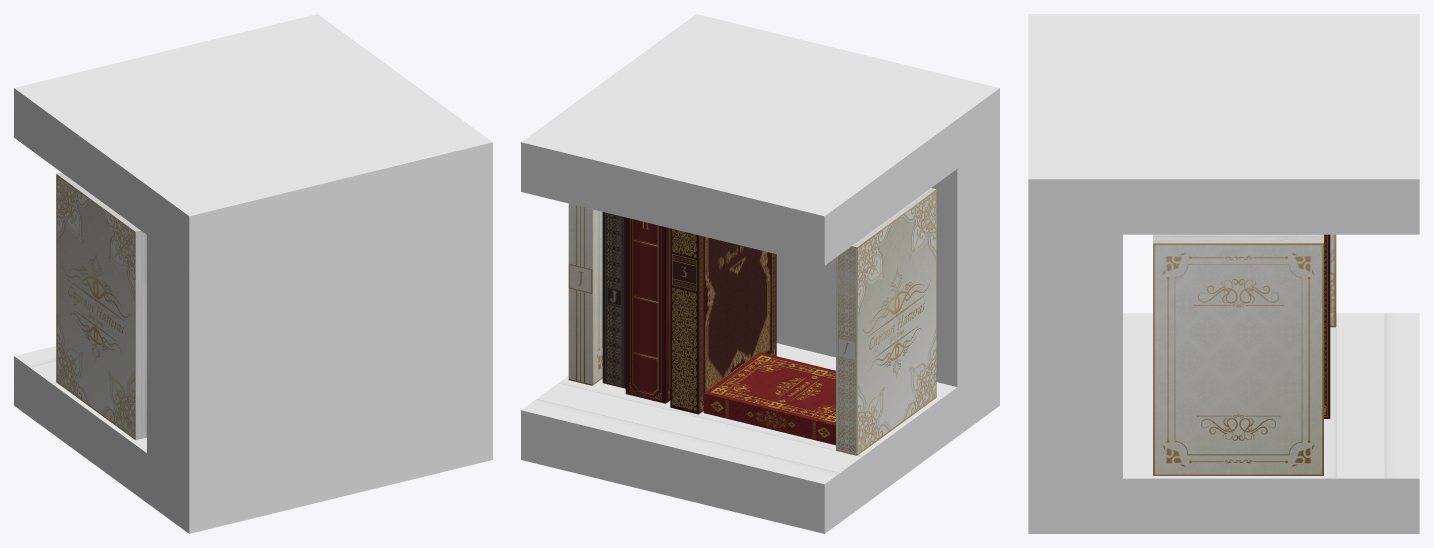
File: bookshelf1.obj
The picture shows the model from 3 angles, left to right: view 1: azimuth 30°, elevation 25°; view 2: azimuth 150°, elevation 25°; view 3: azimuth 270°, elevation 25°; orthographic projection. The views are drawn at different scales.
Visible parts, largest first — view 1: cube, cube.000, cube.001, cube.003; view 2: cube, cube.001, cube.003, cube.000, cube.007, cube.006, cube.005, cube.002, cube.004; view 3: cube, cube.001, cube.002, cube.000, cube.007, cube.003.
Part boxes in pixels (x1,y1,x2,y2): cube: [14, 14, 492, 265]; cube.000: [147, 192, 492, 484]; cube.001: [14, 346, 492, 533]; cube.003: [56, 172, 146, 440]; cube: [521, 14, 999, 265]; cube.001: [521, 343, 999, 533]; cube.003: [836, 188, 936, 455]; cube.000: [776, 138, 999, 386]; cube.007: [670, 228, 776, 414]; cube.006: [703, 352, 835, 445]; cube.005: [625, 217, 670, 403]; cube.002: [568, 203, 602, 385]; cube.004: [602, 212, 625, 388]; cube: [1028, 14, 1419, 234]; cube.001: [1028, 313, 1419, 533]; cube.002: [1153, 234, 1323, 475]; cube.000: [1028, 234, 1122, 478]; cube.007: [1324, 234, 1330, 418]; cube.003: [1330, 234, 1336, 327].
Bounding box in the file's own units: 1 × 1 × 1.
